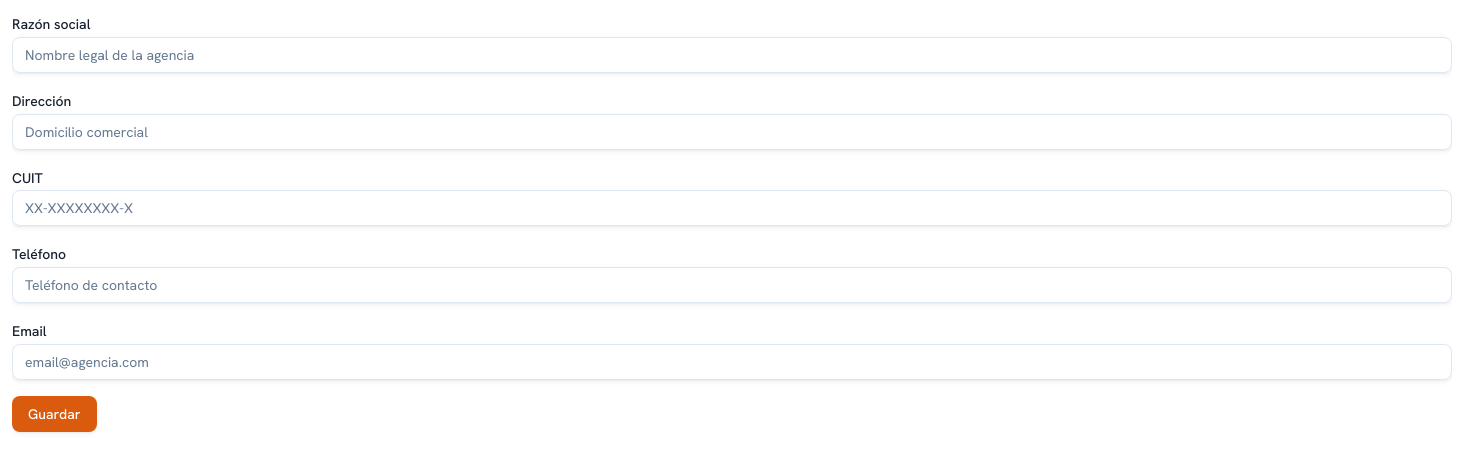
Test: AgencyProfileForm — zod validation › shows CUIT validation error for invalid format and blocks submit
Type "INVALID" into the field labelled "CUIT".
click(732, 208); type("INVALID")  # box 12,190 -> 1452,226
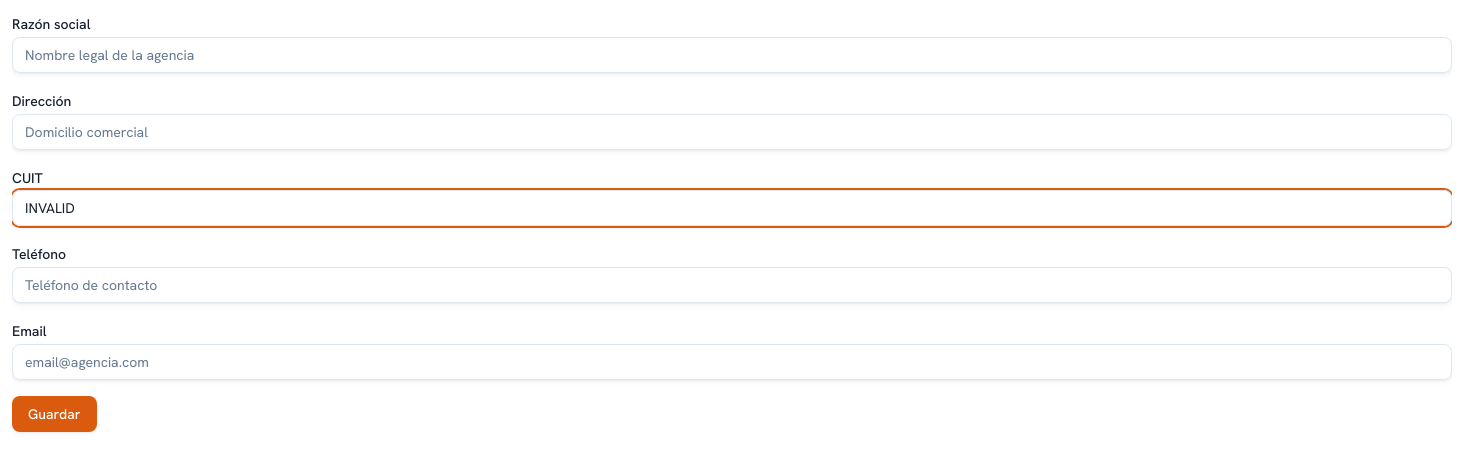
Click the button "Guardar".
click(54, 414)  # box 12,396 -> 96,432
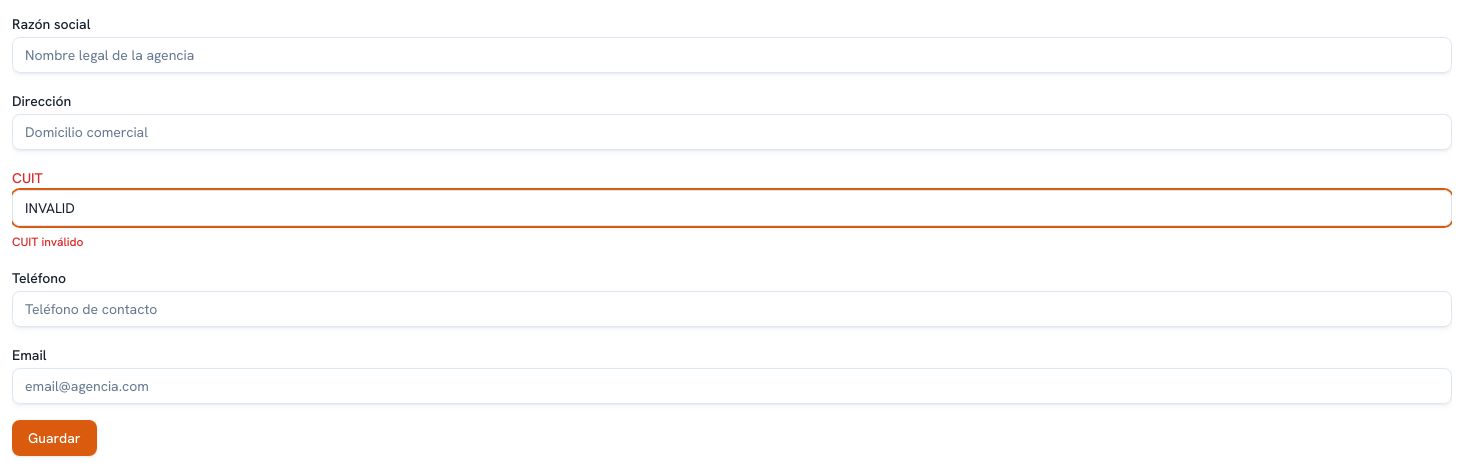
Expected: the text "CUIT inválido" is shown, 12,234 -> 83,250
